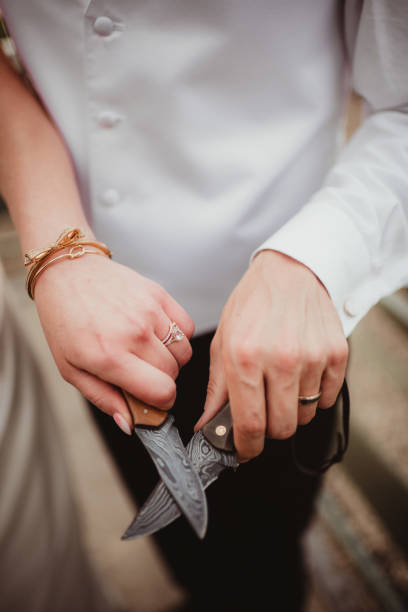knife: (121, 403, 239, 542), (125, 392, 210, 542)
